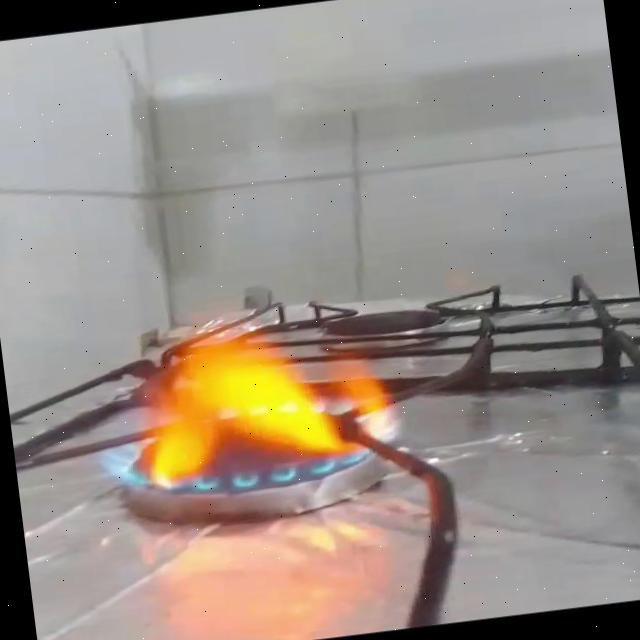fire: (66, 276, 410, 512)
